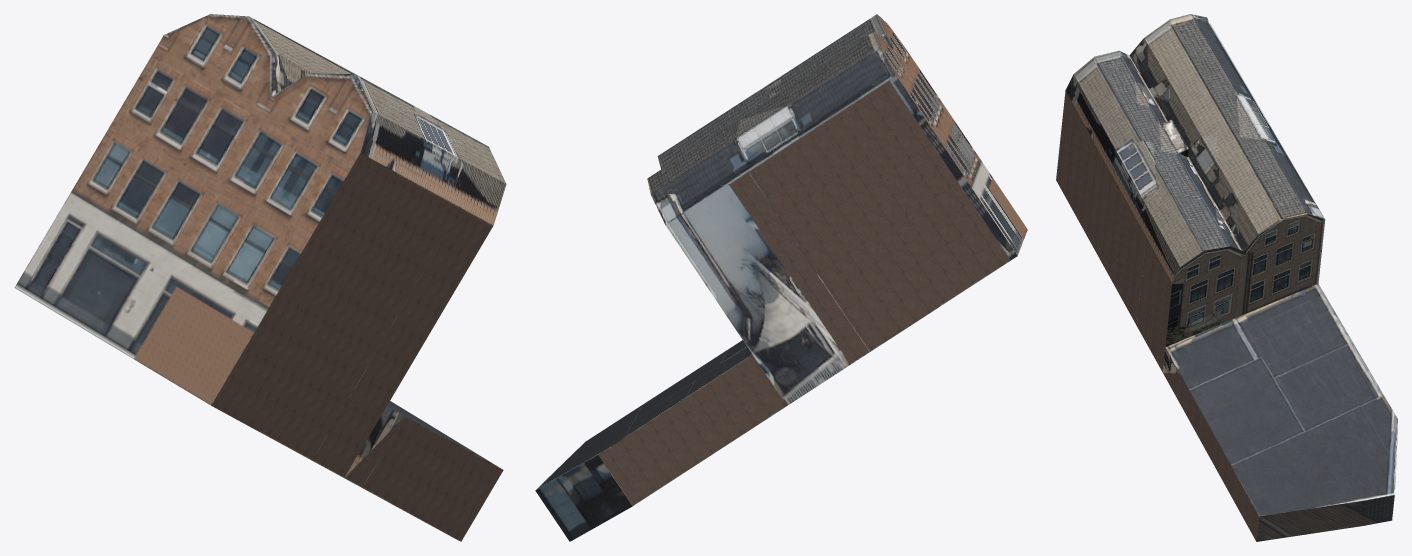
3 renders of one model, left to right at view 1: azimuth 30°, elevation 25°; view 2: azimuth 150°, elevation 25°; view 3: azimuth 270°, elevation 25°, orthographic. The views are drawn at different scales.
Visible parts, largest first — view 1: BAG_0599100000656917 (×7); view 2: BAG_0599100000656917 (×6); view 3: BAG_0599100000656917 (×9).
Boxes of the visible parts, box(x1,y1,x2,y2) form: BAG_0599100000656917 (×7): box(14, 14, 506, 541); BAG_0599100000656917 (×6): box(535, 14, 1027, 541); BAG_0599100000656917 (×9): box(1056, 14, 1397, 541).
Size of the model in its own units: 23.74 by 27.16 by 19.5.
Materials: 2 (1 with a texture image).
